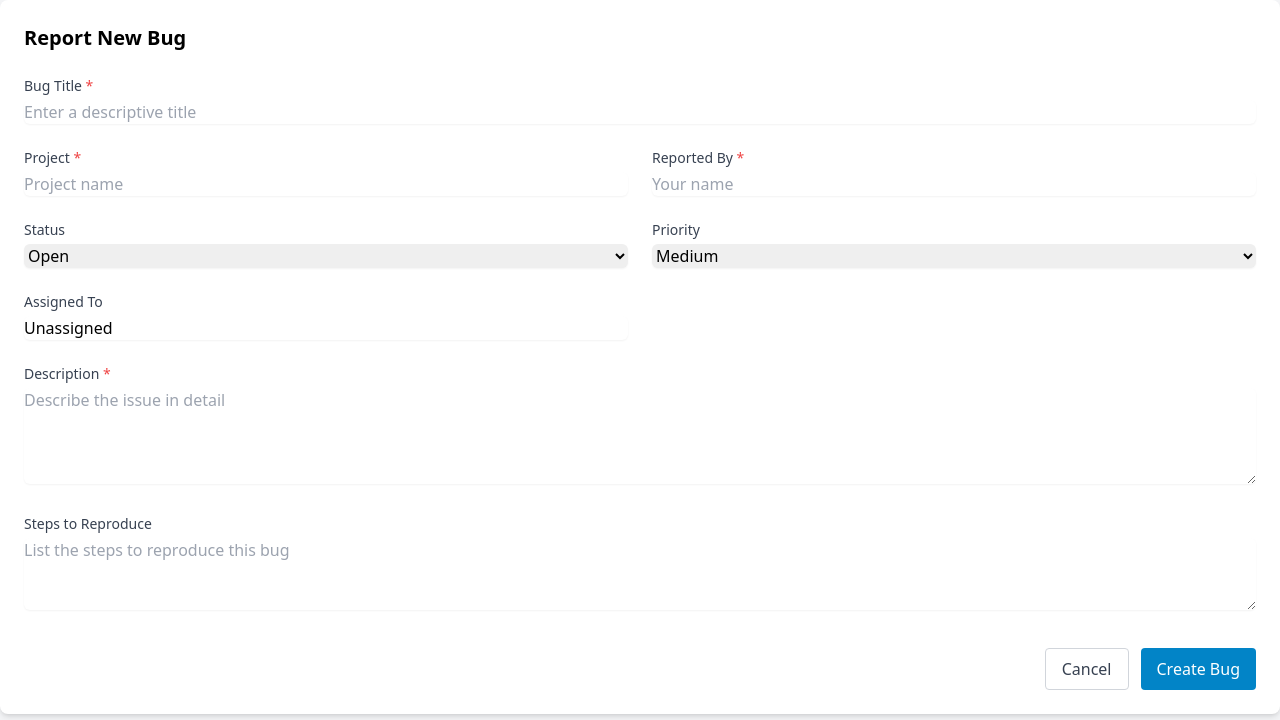
Test case: BugForm Component › submits form in create mode
// Fill out form
Type "New Bug Title" into the field with test id "bug-title-input" at (640, 112), box left=24, top=100, right=1256, bottom=124
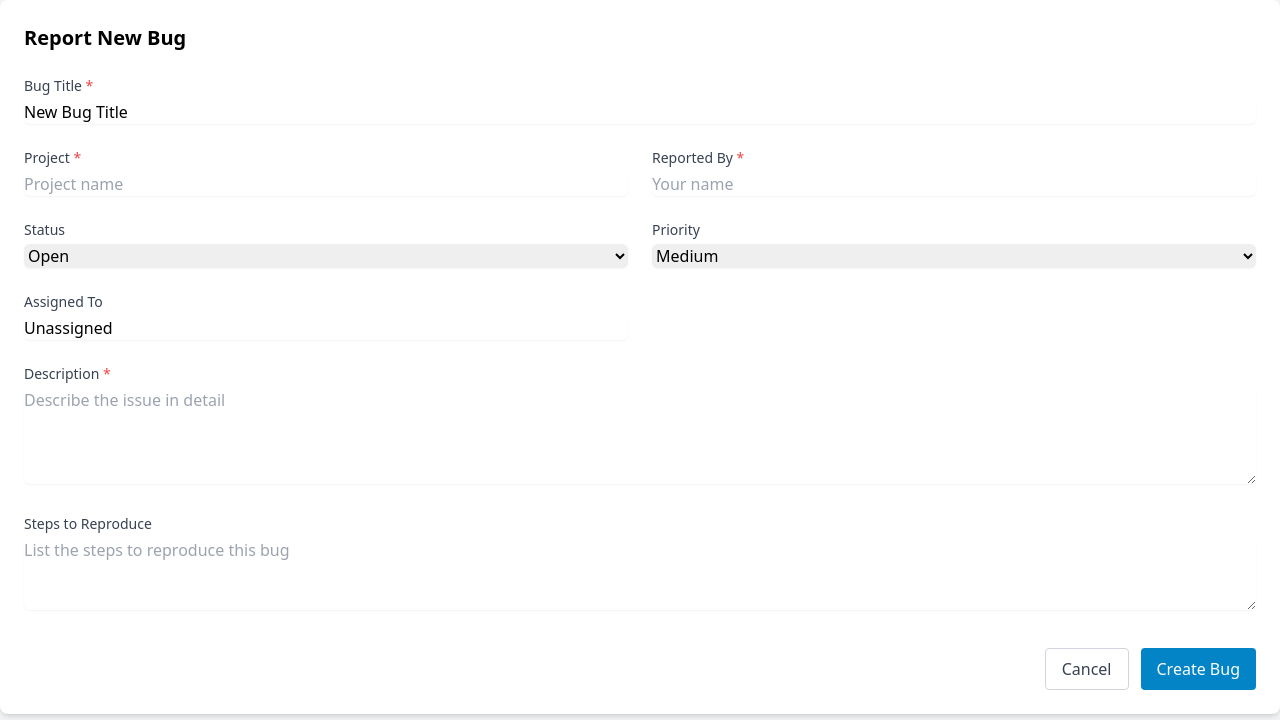
Type "New Bug Description" into the text box with test id "bug-description-input" at (640, 436), box left=24, top=388, right=1256, bottom=484
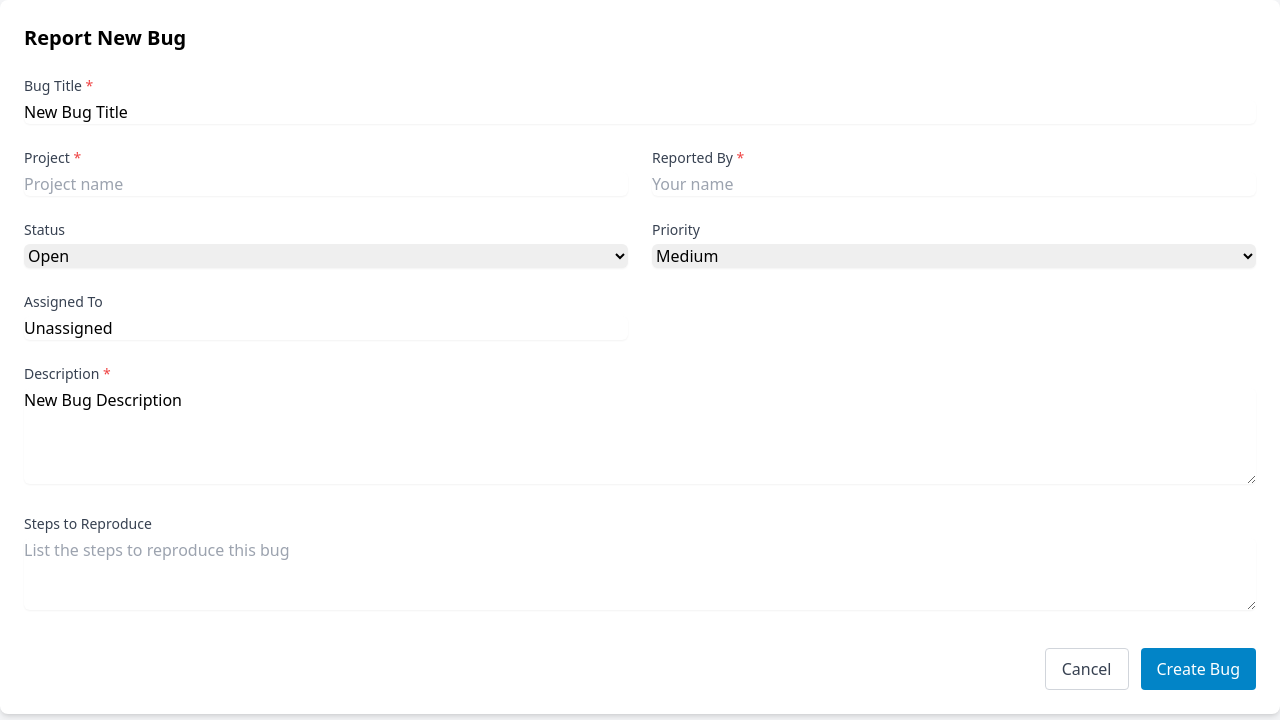
Type "Test Project" into the field labelled "Project *" at (326, 184), box left=24, top=172, right=628, bottom=196
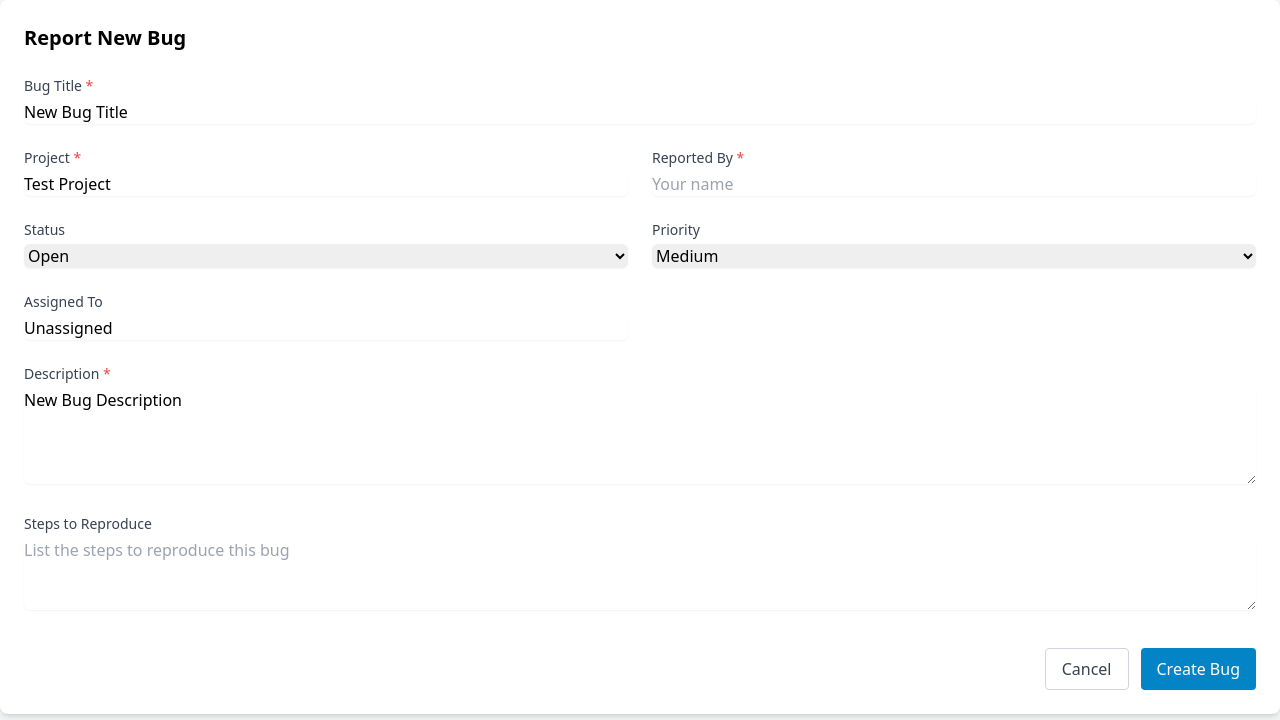
Type "Test User" into the field labelled "Reported By *" at (954, 184), box left=652, top=172, right=1256, bottom=196
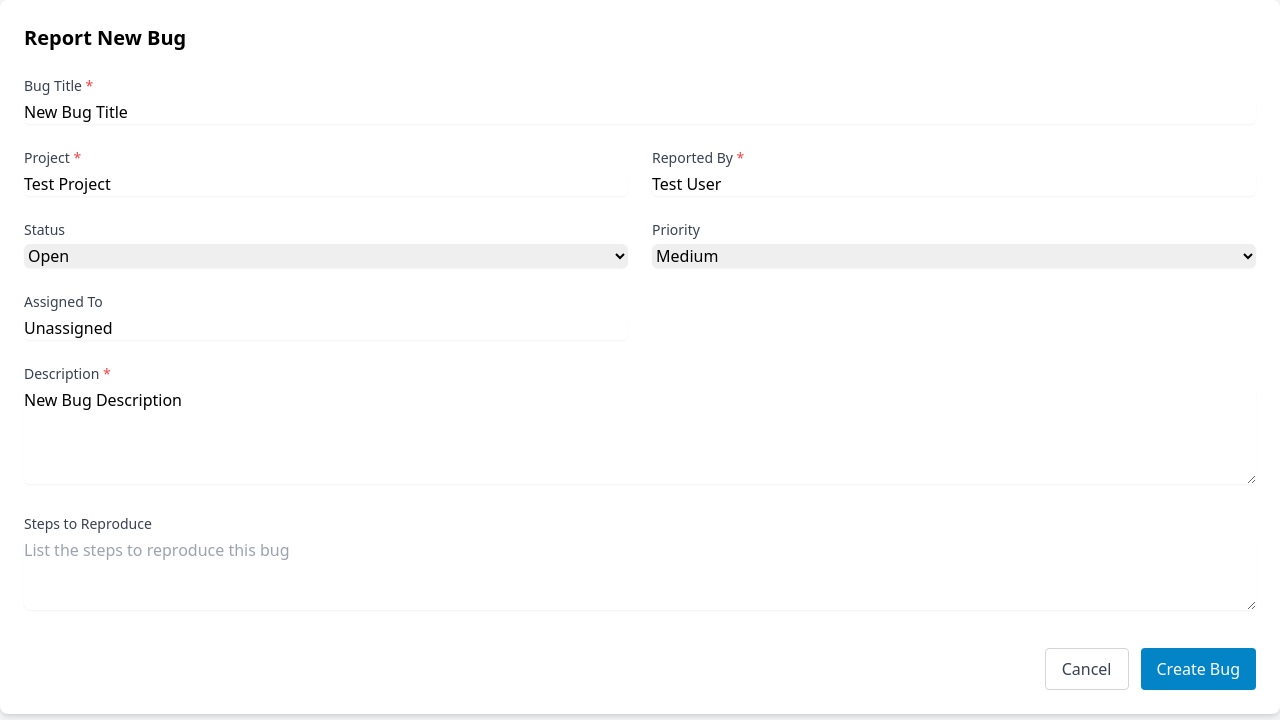
// Submit form
Click the button with test id "submit-bug-button" at (1198, 669), box left=1140, top=648, right=1256, bottom=690
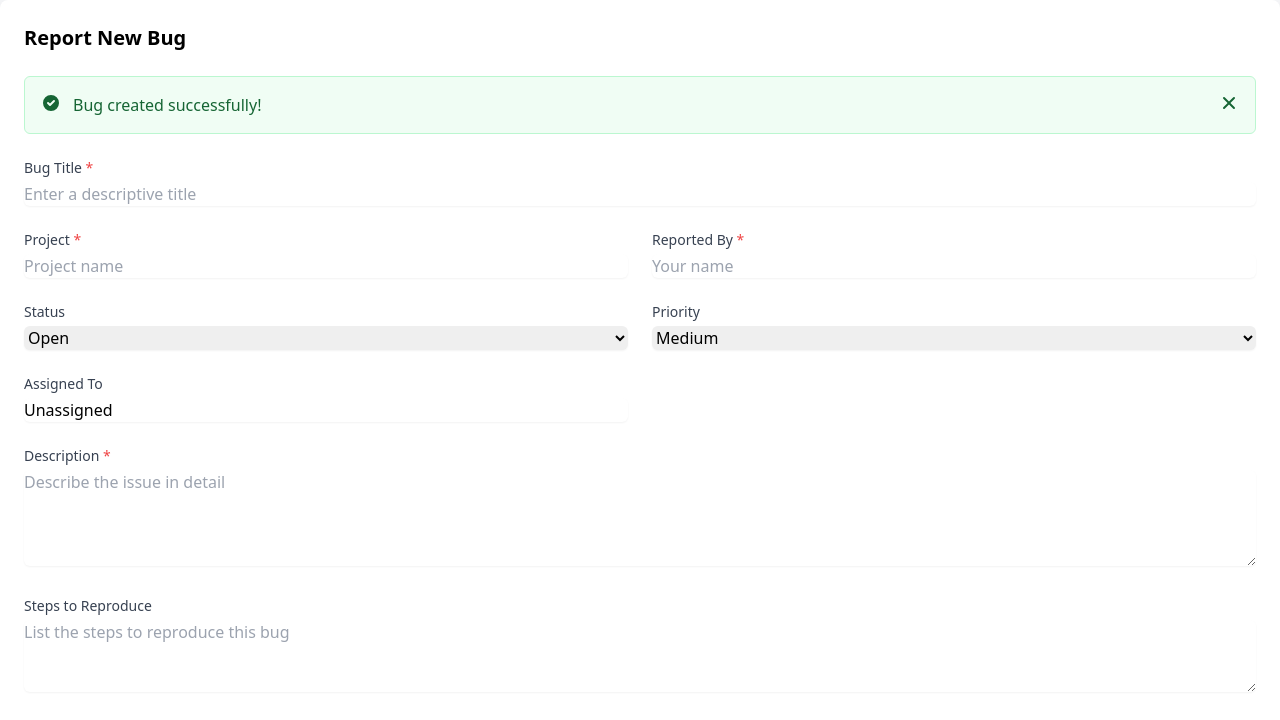
Expected: the text "Bug created successfully!" is shown, left=73, top=94, right=261, bottom=116
